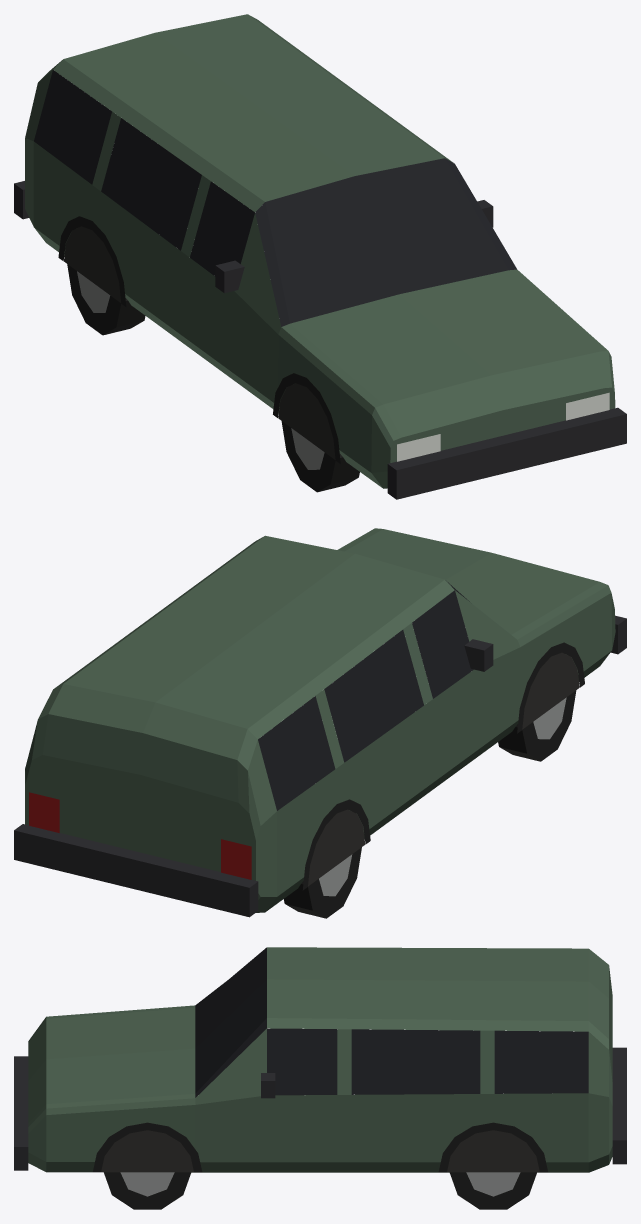
Rendered from town_suv_green 2.gltf.
3 views of the same model, one above another, from view 1: azimuth 30°, elevation 25°; view 2: azimuth 150°, elevation 25°; view 3: azimuth 270°, elevation 25° (orthographic). The views are drawn at different scales.
Parts seen in each view (by area): view 1: TownSuvGreen_Body, TownSuvGreen_Glass, TownSuvGreen_Bumpers, TownSuvGreen_Arches, TownSuvGreen_Tyres, TownSuvGreen_Headlights, TownSuvGreen_Rims, TownSuvGreen_Mirrors; view 2: TownSuvGreen_Body, TownSuvGreen_Glass, TownSuvGreen_Bumpers, TownSuvGreen_Arches, TownSuvGreen_Tyres, TownSuvGreen_Taillights, TownSuvGreen_Rims, TownSuvGreen_Mirrors; view 3: TownSuvGreen_Body, TownSuvGreen_Glass, TownSuvGreen_Arches, TownSuvGreen_Bumpers, TownSuvGreen_Tyres, TownSuvGreen_Rims, TownSuvGreen_Mirrors.
Part boxes in pixels (left/top/right/bottom): TownSuvGreen_Body: left=25, top=14, right=615, bottom=488; TownSuvGreen_Glass: left=34, top=70, right=516, bottom=326; TownSuvGreen_Bumpers: left=14, top=181, right=626, bottom=499; TownSuvGreen_Arches: left=58, top=216, right=340, bottom=463; TownSuvGreen_Tyres: left=67, top=264, right=359, bottom=492; TownSuvGreen_Headlights: left=397, top=392, right=609, bottom=461; TownSuvGreen_Rims: left=77, top=271, right=324, bottom=469; TownSuvGreen_Mirrors: left=215, top=200, right=493, bottom=293; TownSuvGreen_Body: left=25, top=528, right=615, bottom=912; TownSuvGreen_Glass: left=258, top=580, right=473, bottom=810; TownSuvGreen_Bumpers: left=14, top=615, right=626, bottom=917; TownSuvGreen_Arches: left=302, top=642, right=584, bottom=890; TownSuvGreen_Tyres: left=283, top=690, right=576, bottom=918; TownSuvGreen_Taillights: left=29, top=792, right=251, bottom=879; TownSuvGreen_Rims: left=319, top=697, right=566, bottom=896; TownSuvGreen_Mirrors: left=464, top=639, right=493, bottom=671; TownSuvGreen_Body: left=28, top=947, right=612, bottom=1172; TownSuvGreen_Glass: left=195, top=947, right=588, bottom=1097; TownSuvGreen_Arches: left=93, top=1122, right=547, bottom=1172; TownSuvGreen_Bumpers: left=14, top=1047, right=626, bottom=1170; TownSuvGreen_Tyres: left=104, top=1172, right=536, bottom=1209; TownSuvGreen_Rims: left=120, top=1172, right=520, bottom=1196; TownSuvGreen_Mirrors: left=261, top=1073, right=275, bottom=1098.
Size of what is drawn, in the model's own units: 2.1 by 1.69 by 5.14.
Materials: 1 (1 with a texture image).
